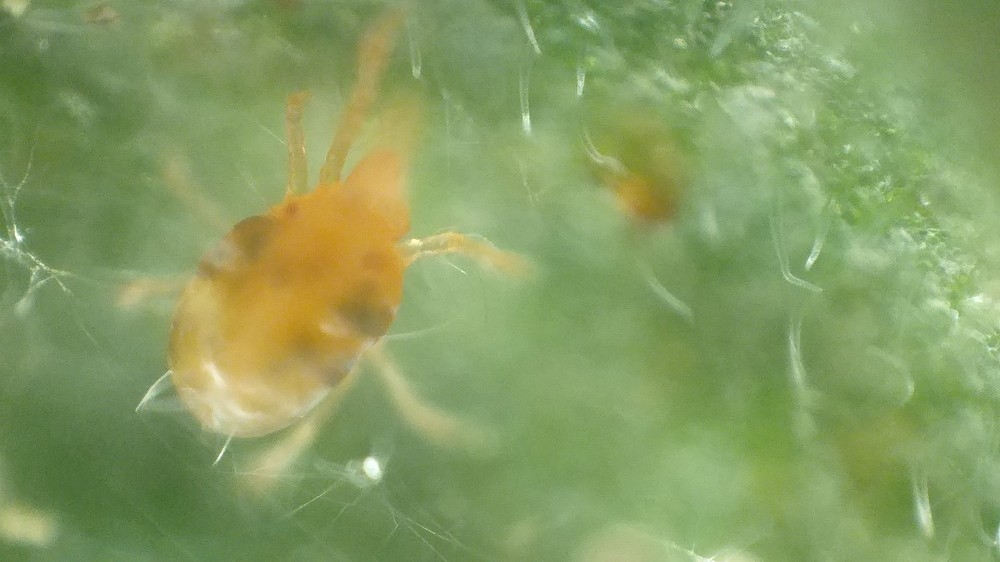Aracnido Rojo: (146, 22, 544, 511)
